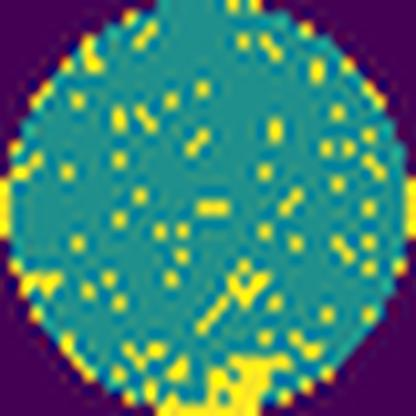Edge-Loc: (152, 344, 284, 416)
